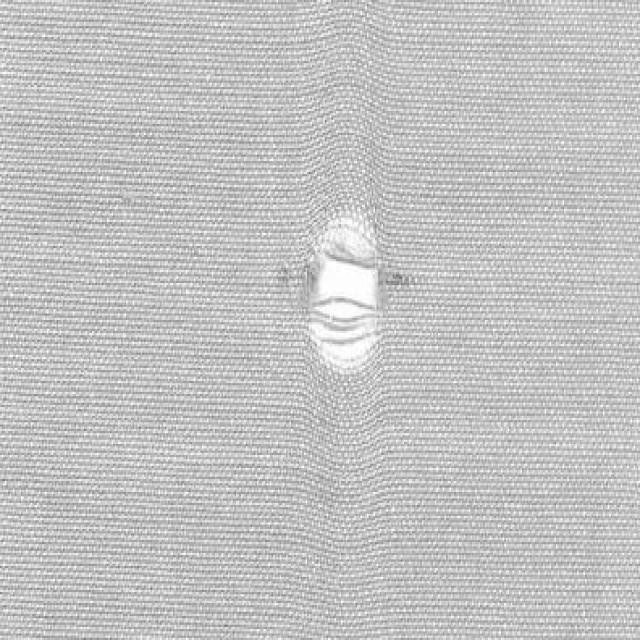Hole: (309, 217, 380, 368)
